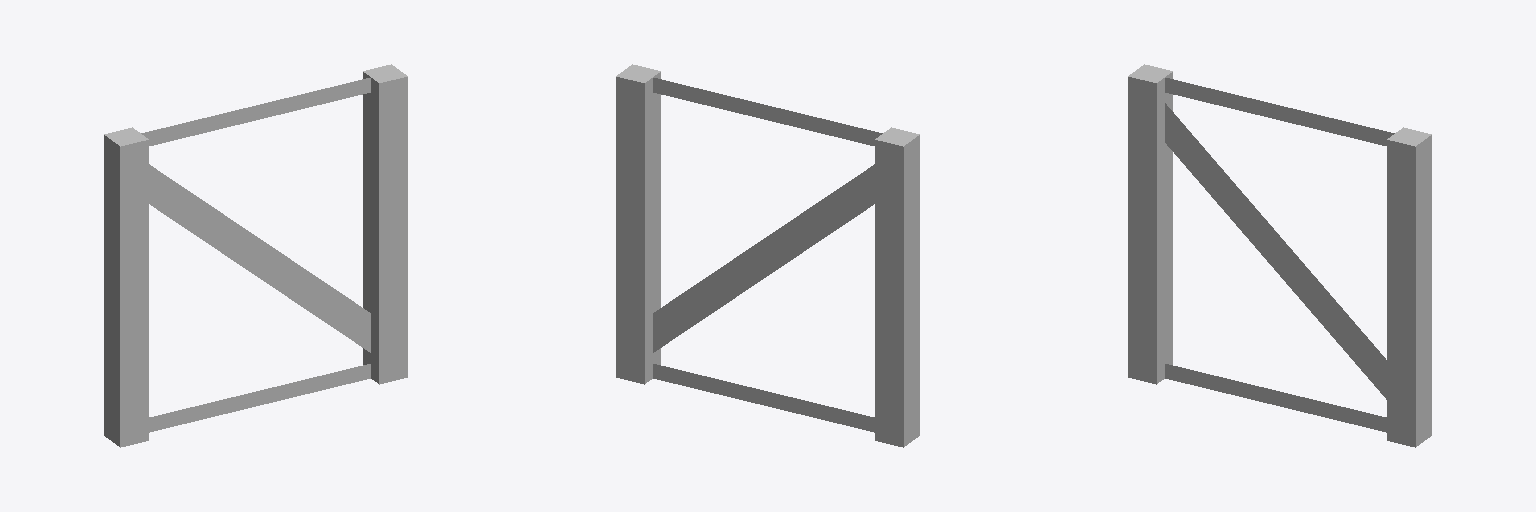
Rendered from structure-wall-cross.obj.
3 renders of one model, left to right at view 1: azimuth 30°, elevation 25°; view 2: azimuth 150°, elevation 25°; view 3: azimuth 330°, elevation 25°, orthographic.
Parts seen in each view (by area): view 1: structure-wall-cross; view 2: structure-wall-cross; view 3: structure-wall-cross.
Boxes of the visible parts, box(x1,y1,x2,y2) form: structure-wall-cross: box(104, 64, 407, 447); structure-wall-cross: box(616, 64, 919, 447); structure-wall-cross: box(1128, 64, 1431, 447).
Bounding box in the file's own units: 1 × 1 × 0.1.